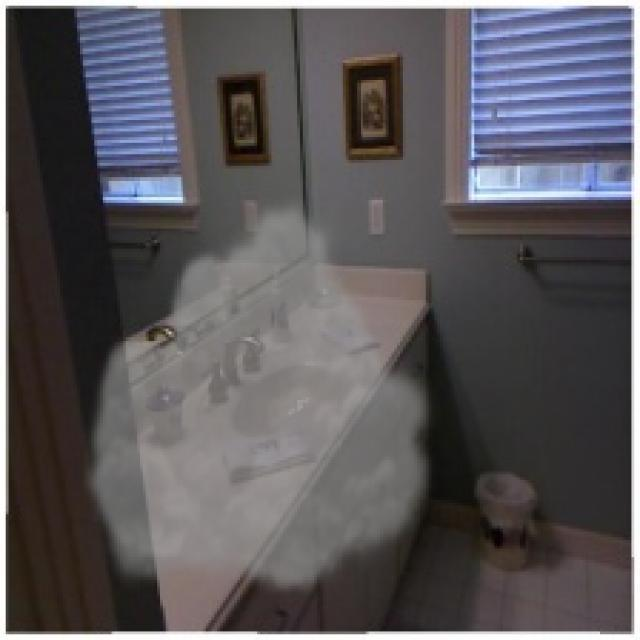Smoke: (80, 192, 443, 597)
